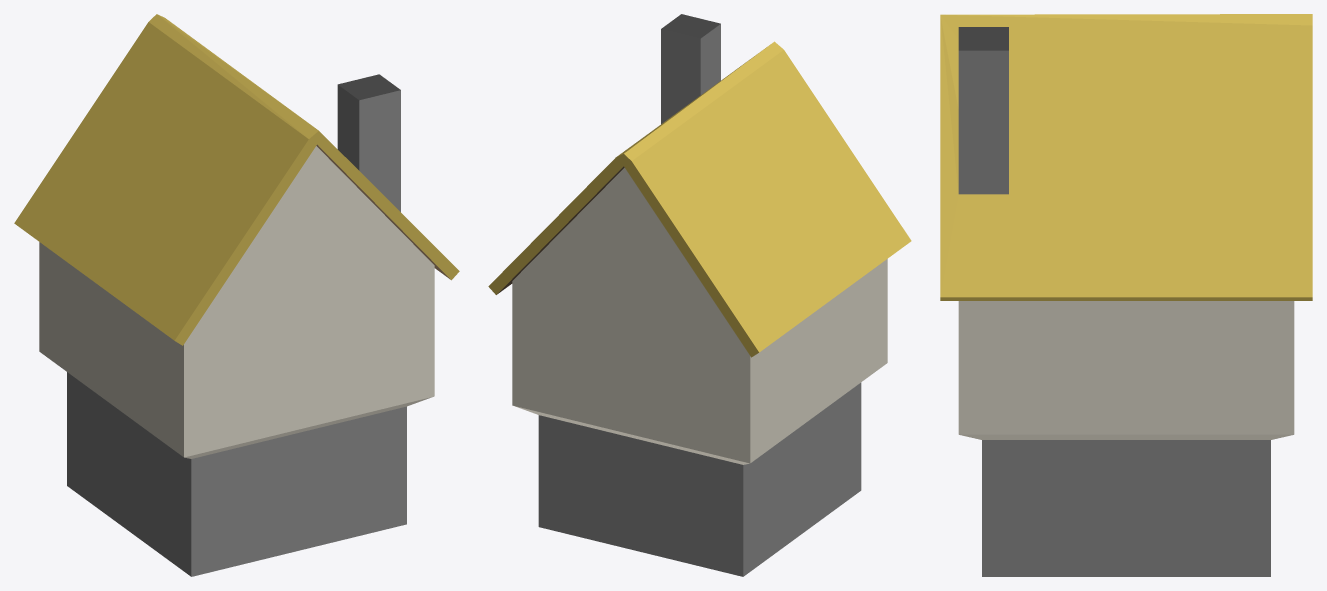
File: VilaNova_House1x1_textured.fbx
3 renders of one model, left to right at view 1: azimuth 30°, elevation 25°; view 2: azimuth 150°, elevation 25°; view 3: azimuth 270°, elevation 25°, orthographic. The views are drawn at different scales.
Visible parts, largest first — view 1: House1x1_LOD0; view 2: House1x1_LOD0; view 3: House1x1_LOD0.
Part boxes in pixels (<box>): House1x1_LOD0: <box>14,14,459,576</box>; House1x1_LOD0: <box>488,14,911,576</box>; House1x1_LOD0: <box>940,14,1312,576</box>.
Size of the model in its own units: 228 by 340 by 222.
